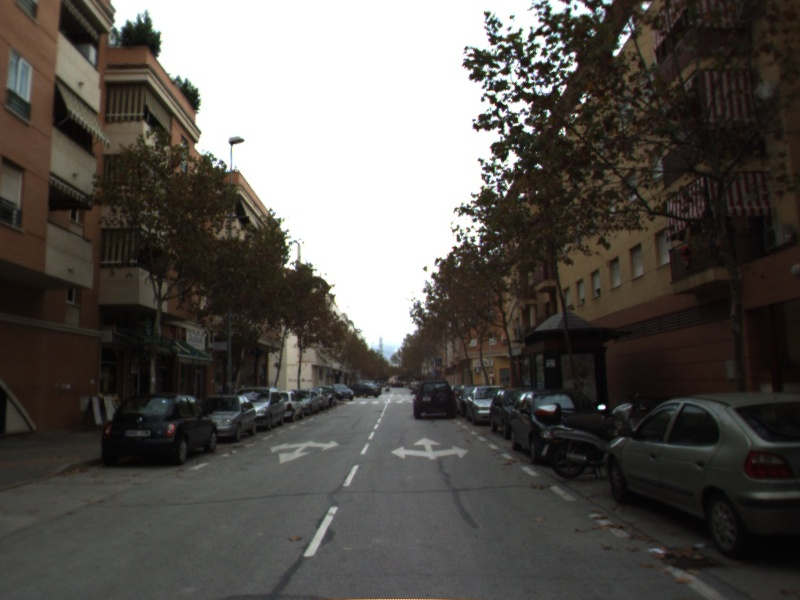STRAIGHT_LEFT_RIGHT: (389, 435, 471, 461)
